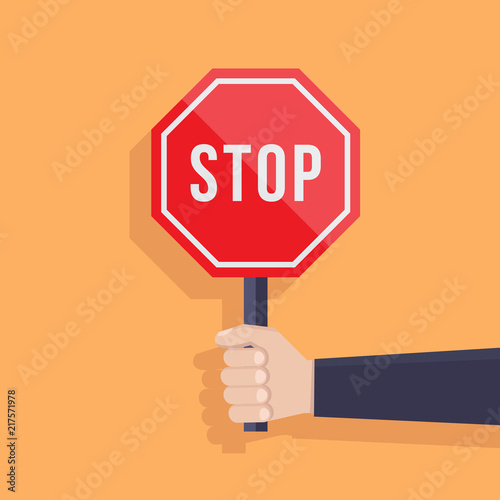StopSign: (150, 68, 360, 278)
